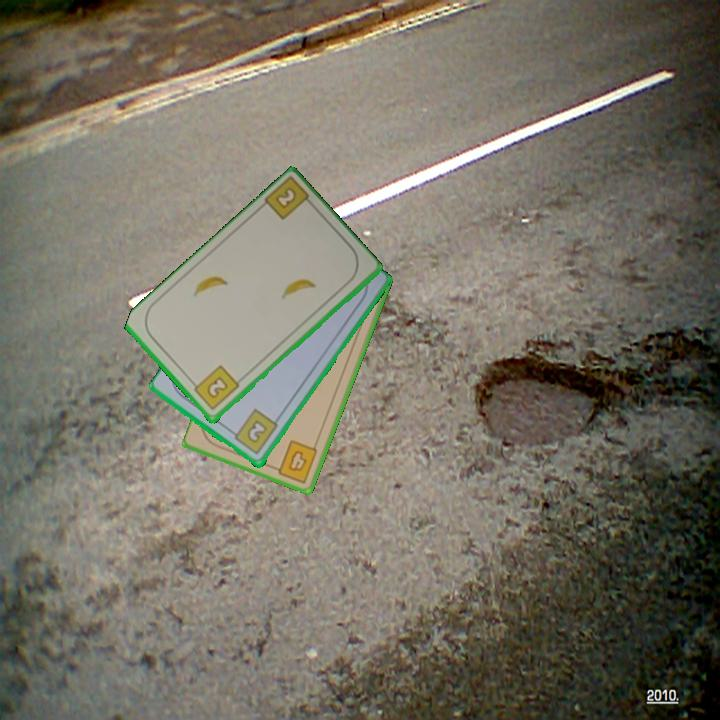2b: (227, 406, 281, 458), (260, 175, 318, 223), (188, 362, 242, 413)
4b: (269, 436, 321, 486)
